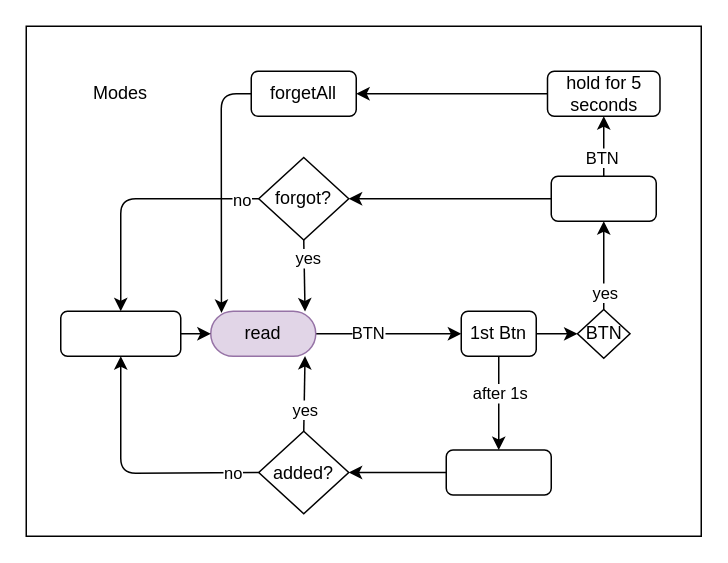
Image size: 728x563. Some labels were removed from this diagram. The box of each missing label's shape, as (x1, y1, x2, y2) in pixels:
60s inactivity: (59, 310, 181, 356)
forget: (550, 175, 656, 221)
learn: (445, 448, 551, 495)
